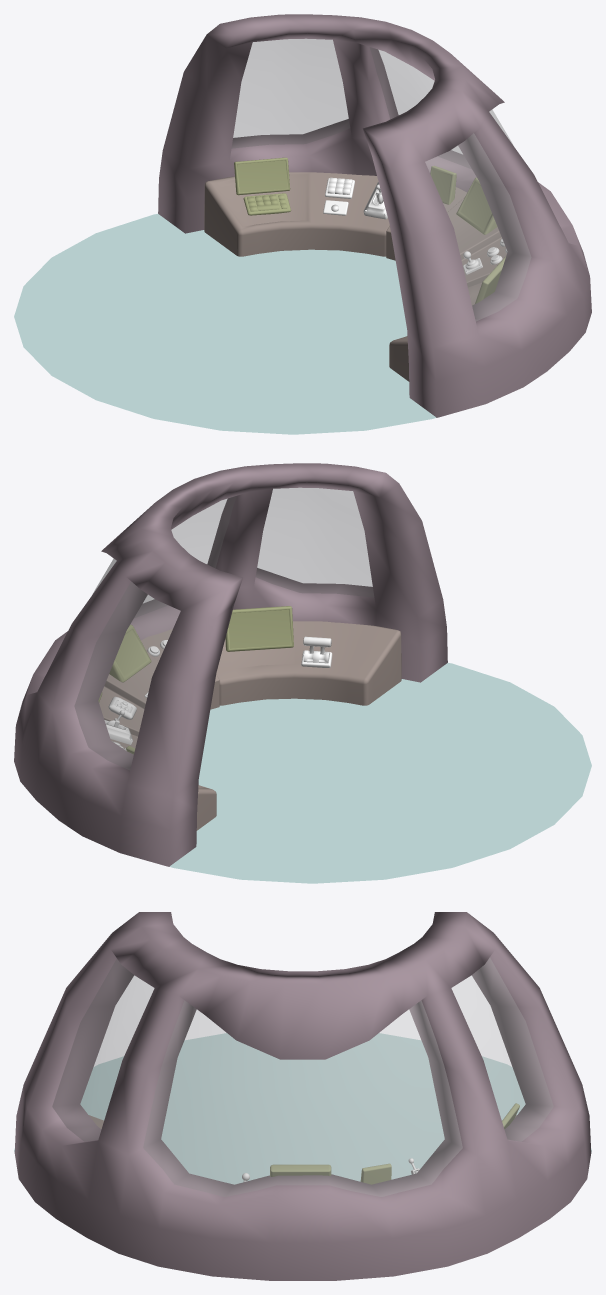
Rendered from cabine_low_0.1.fbx.
The picture shows the model from 3 angles, top to bottom: view 1: azimuth 30°, elevation 25°; view 2: azimuth 150°, elevation 25°; view 3: azimuth 270°, elevation 25°; orthographic projection. The views are drawn at different scales.
Visible parts, largest first — view 1: obj_pared_low, obj_suelo_low, obj_vidrio_low, obj_mesas_laterales_low, obj_mesa_central_low, obj_pantalla_01_low, obj_pantalla_03_low, obj_teclado_low, obj_pantalla_02_low, obj_teclas_low; view 2: obj_pared_low, obj_suelo_low, obj_vidrio_low, obj_mesas_laterales_low, obj_pantalla_04_low, obj_mesa_central_low, obj_pantalla_03_low, obj_palanca_grande_low; view 3: obj_pared_low, obj_vidrio_low, obj_suelo_low, obj_pantalla_03_low, obj_pantalla_02_low.
Boxes of the visible parts, x1,y1,x2,y2 form: obj_pared_low: [158, 14, 591, 417]; obj_suelo_low: [14, 214, 436, 434]; obj_vidrio_low: [232, 39, 531, 320]; obj_mesas_laterales_low: [204, 172, 481, 381]; obj_mesa_central_low: [386, 187, 506, 287]; obj_pantalla_01_low: [234, 157, 290, 195]; obj_pantalla_03_low: [456, 177, 497, 234]; obj_teclado_low: [243, 193, 291, 215]; obj_pantalla_02_low: [430, 166, 456, 204]; obj_teclas_low: [325, 177, 354, 198]; obj_pared_low: [14, 463, 447, 866]; obj_suelo_low: [169, 663, 591, 883]; obj_vidrio_low: [74, 488, 373, 769]; obj_mesas_laterales_low: [110, 621, 401, 830]; obj_pantalla_04_low: [225, 606, 293, 651]; obj_mesa_central_low: [99, 629, 219, 736]; obj_pantalla_03_low: [109, 624, 151, 682]; obj_palanca_grande_low: [301, 636, 332, 667]; obj_pared_low: [14, 912, 591, 1280]; obj_vidrio_low: [52, 958, 553, 1196]; obj_suelo_low: [14, 1033, 591, 1184]; obj_pantalla_03_low: [270, 1164, 331, 1176]; obj_pantalla_02_low: [360, 1163, 391, 1184].
Size of the model in its own units: 335 by 151 by 325.
